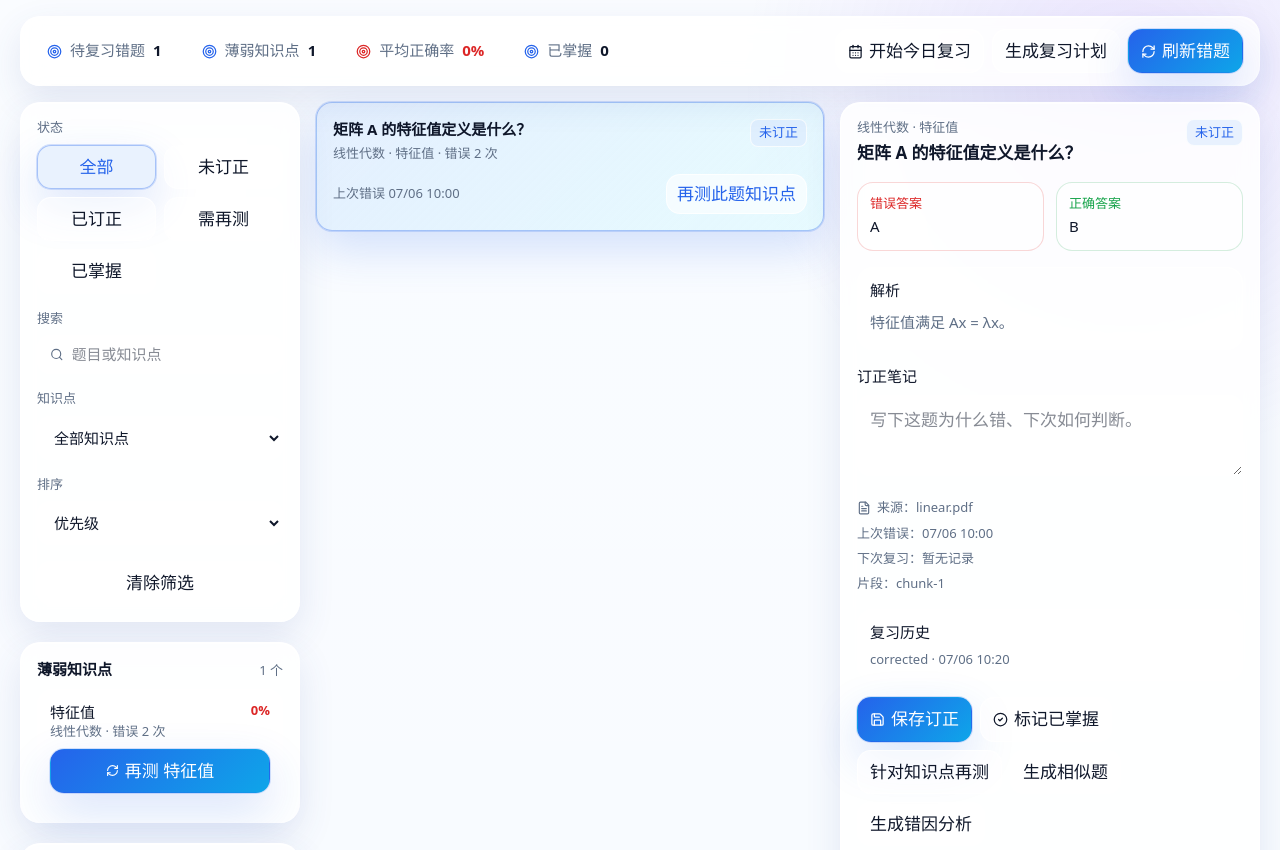
Test: ReviewWorkbench › starts a daily review flow
Click the button "开始今日复习" at (910, 51), box [835,29,984,73]
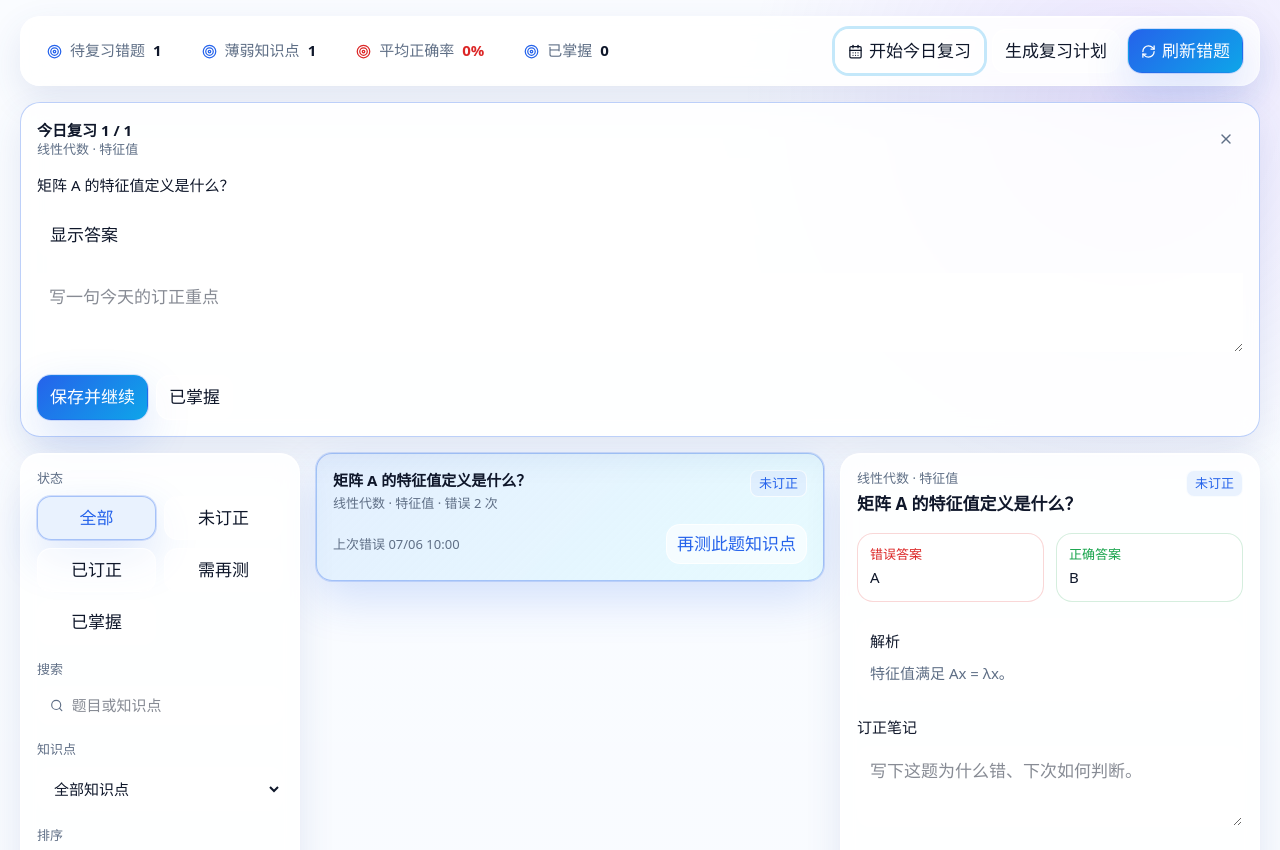
Now the heading "今日复习 1 / 1" is shown, box [37,120,138,141]
Now the button "显示答案" is shown, box [37,213,131,257]
